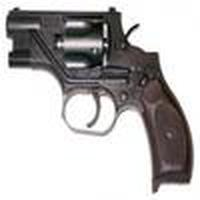gun: (3, 4, 195, 196)
